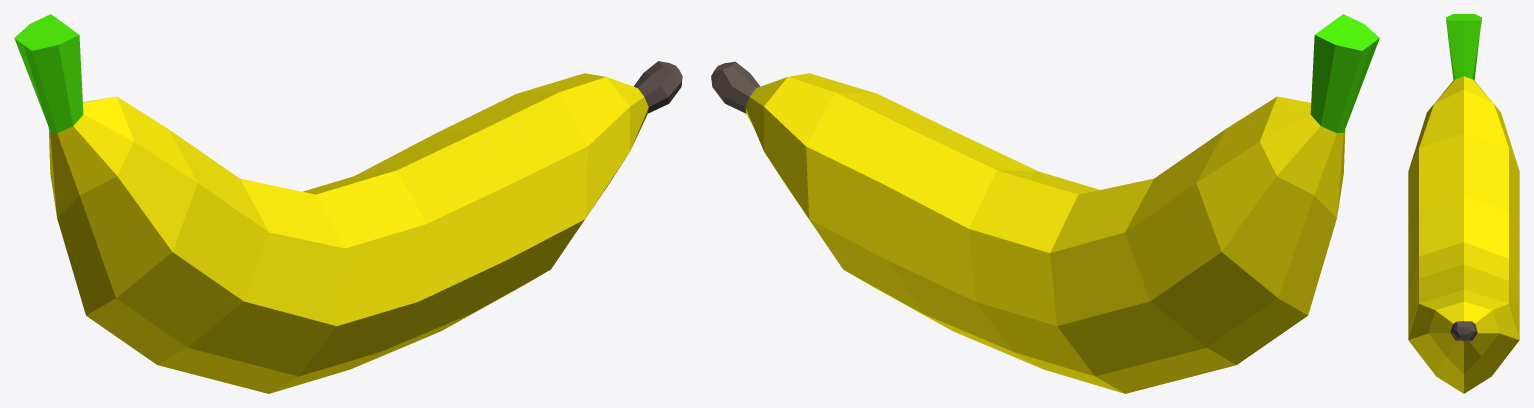
Rendered from Banano.fbx.
3 renders of one model, left to right at view 1: azimuth 30°, elevation 25°; view 2: azimuth 150°, elevation 25°; view 3: azimuth 270°, elevation 25°, orthographic. The views are drawn at different scales.
Visible parts, largest first — view 1: pCube2; view 2: pCube2; view 3: pCube2.
Boxes of the visible parts, <box> form: pCube2: <box>14,14,682,393</box>; pCube2: <box>711,14,1379,393</box>; pCube2: <box>1408,14,1519,393</box>.
Size of the model in its own units: 5.28 by 3.23 by 1.24.
